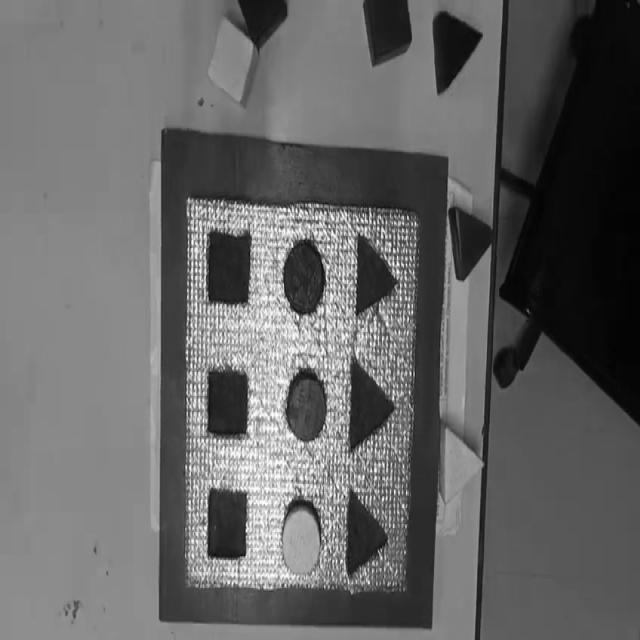bcircle: (284, 240, 326, 313)
btriangle: (432, 10, 483, 97)
mtcube: (205, 228, 252, 306), (206, 486, 249, 560), (207, 367, 250, 438)
mttriangle: (348, 354, 395, 452), (354, 232, 400, 319), (346, 488, 389, 580)
rcircle: (286, 372, 326, 442)
rcube: (362, 1, 412, 68)
rtriangle: (447, 206, 492, 284)
wb: (182, 195, 418, 601)
ycircle: (280, 502, 321, 576)
ycube: (206, 16, 258, 110)
ytriangle: (439, 421, 485, 505)
